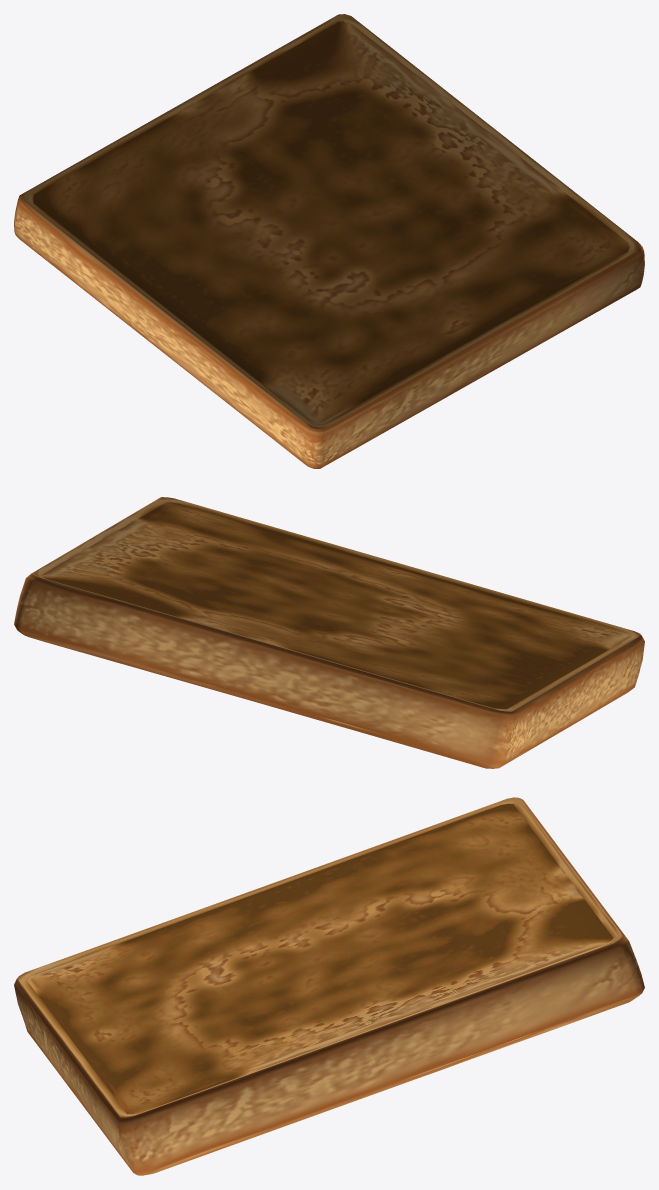
File: toast_top.obj
3 renders of one model, top to bottom at view 1: azimuth 30°, elevation 25°; view 2: azimuth 150°, elevation 25°; view 3: azimuth 270°, elevation 25°, orthographic. The views are drawn at different scales.
Parts seen in each view (by area): view 1: dynamic; view 2: dynamic; view 3: dynamic.
Boxes of the visible parts, left/top/right/bottom form: dynamic: left=14, top=14, right=644, bottom=468; dynamic: left=14, top=497, right=644, bottom=768; dynamic: left=14, top=797, right=644, bottom=1175.
Bounding box in the file's own units: 0.2164 × 0.0931 × 0.2084.
1 material, 1 textured.
